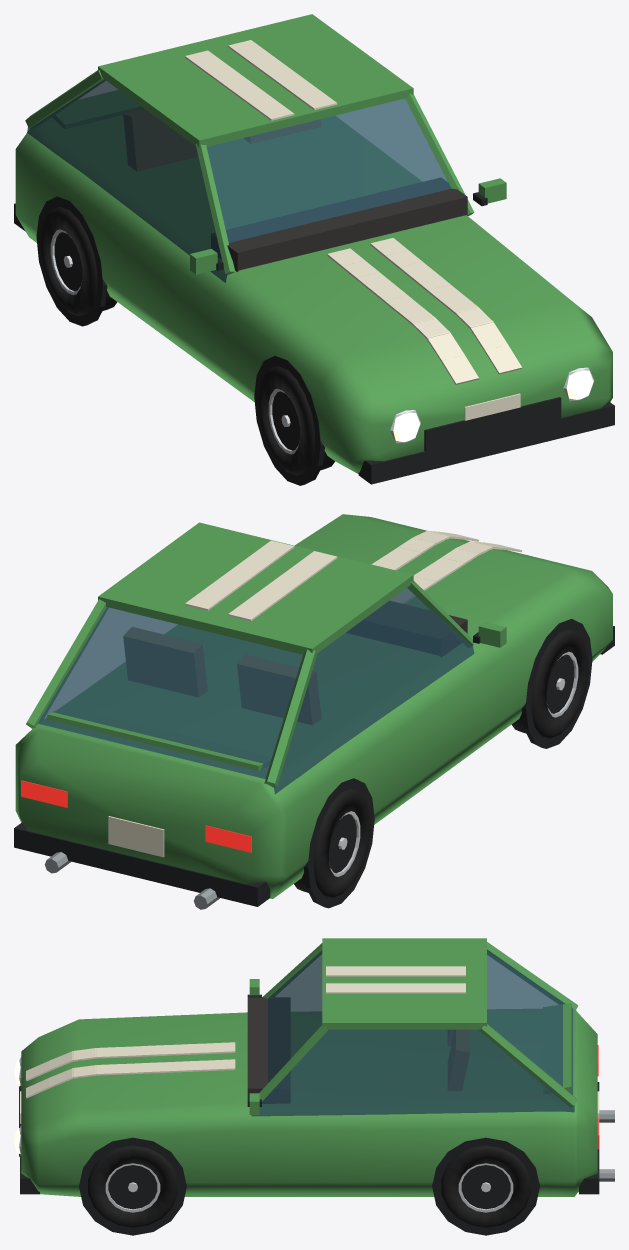
The model's file is moss-hatch.glb.
3 views of the same model, one above another, from view 1: azimuth 30°, elevation 25°; view 2: azimuth 150°, elevation 25°; view 3: azimuth 270°, elevation 25° (orthographic). The views are drawn at different scales.
Visible parts, largest first — view 1: body, wheel_RR, wheel_FR, plate_F, headlight_L, headlight_R; view 2: body, wheel_FR, wheel_RR, plate_R, taillight_L, taillight_R; view 3: body, wheel_FL, wheel_RL.
Boxes of the visible parts, x1,y1,x2,y2 form: body: [14, 14, 614, 485]; wheel_RR: [40, 206, 117, 316]; wheel_FR: [258, 366, 334, 475]; plate_F: [464, 393, 520, 420]; headlight_L: [563, 367, 594, 401]; headlight_R: [390, 410, 420, 443]; body: [14, 514, 614, 908]; wheel_FR: [511, 629, 588, 738]; wheel_RR: [294, 788, 370, 897]; plate_R: [108, 816, 164, 857]; taillight_L: [21, 780, 67, 807]; taillight_R: [205, 825, 251, 852]; body: [19, 938, 599, 1235]; wheel_FL: [88, 1145, 177, 1228]; wheel_RL: [441, 1145, 530, 1228].
Bounding box in the file's own units: 2.02 × 1.55 × 4.17.
